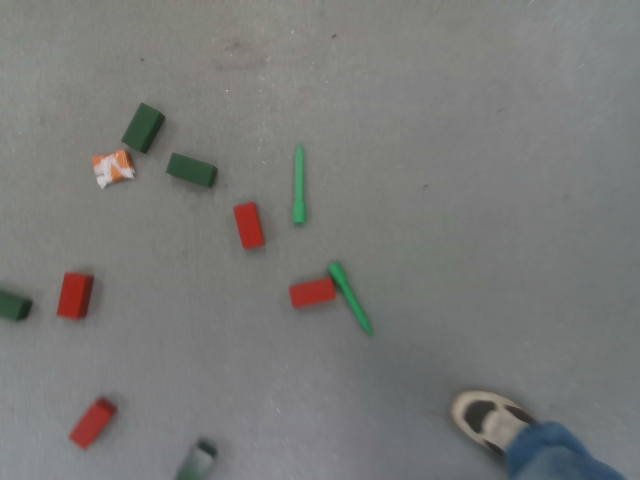Probe: (324, 260, 376, 340), (290, 141, 309, 225)
